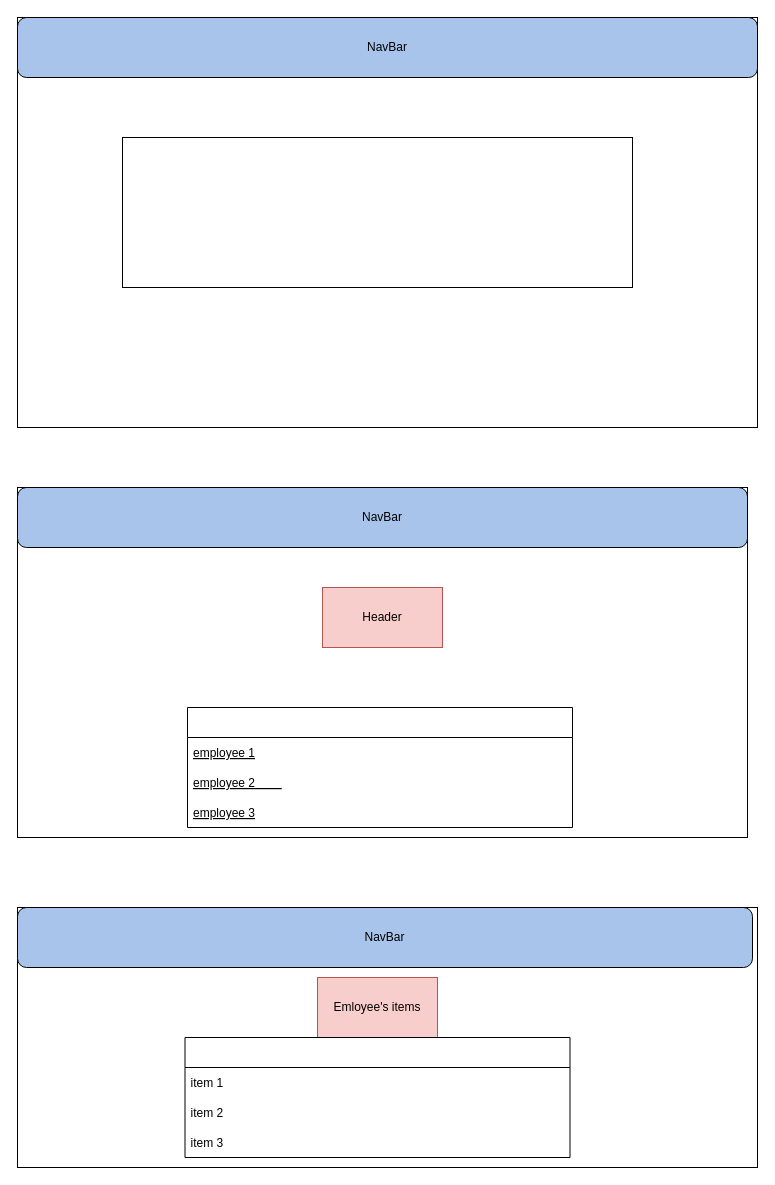
The diagram is 775 pixels wide and 1185 high, and some of its shapes have lost their labels. The shapes that lost their labels are listed below. From the top down, each one's box as (x1, y1, x2, y2) in pixels, then its label:
(122, 136, 632, 288): Welcome to SolarWinds Office App
(184, 1036, 570, 1158): employee name
